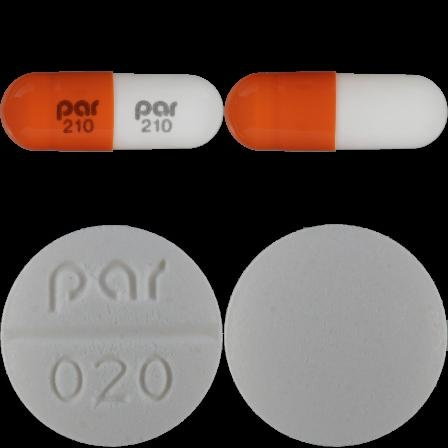60429-437: (0, 0, 224, 224)
